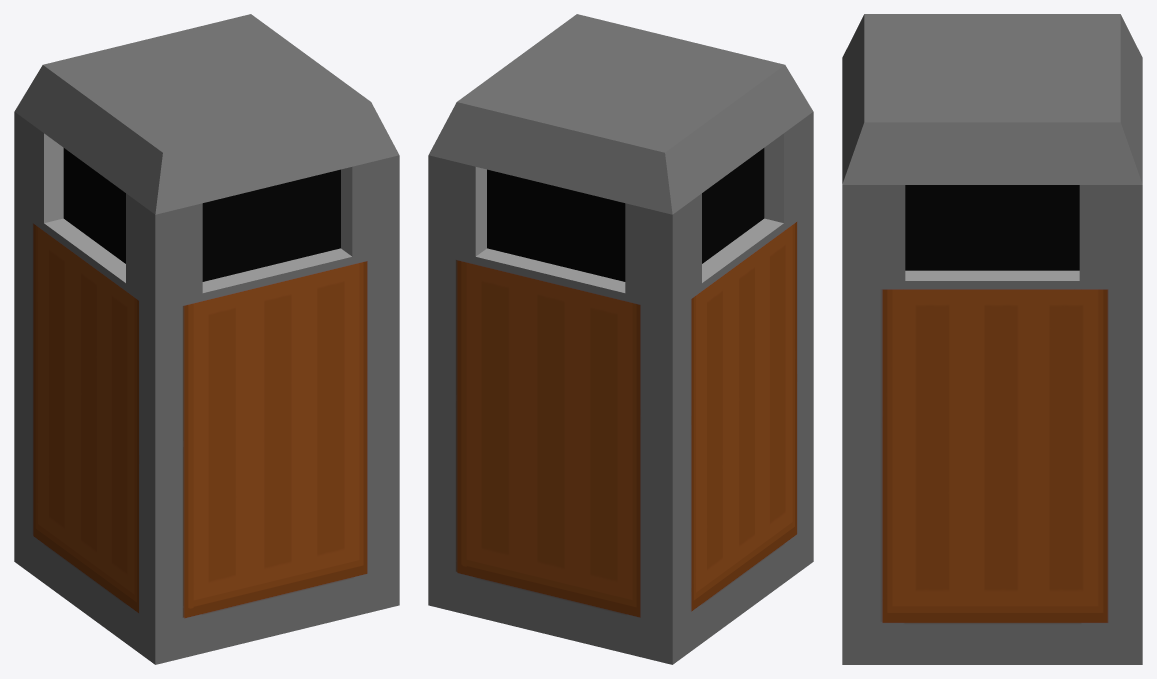
Rendered from TrashBin.fbx.
3 views of the same model, side by side, from view 1: azimuth 30°, elevation 25°; view 2: azimuth 150°, elevation 25°; view 3: azimuth 270°, elevation 25° (orthographic). The views are drawn at different scales.
Visible parts, largest first — view 1: pCube5; view 2: pCube5; view 3: pCube5.
Part boxes in pixels (x1,y1,x2,y2): pCube5: [14, 14, 399, 664]; pCube5: [428, 14, 813, 664]; pCube5: [842, 14, 1142, 664].
Bounding box in the file's own units: 1.14 × 2.23 × 1.14.
